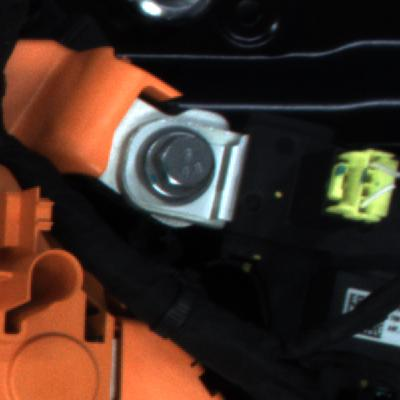nut_b: (135, 125, 226, 207)
